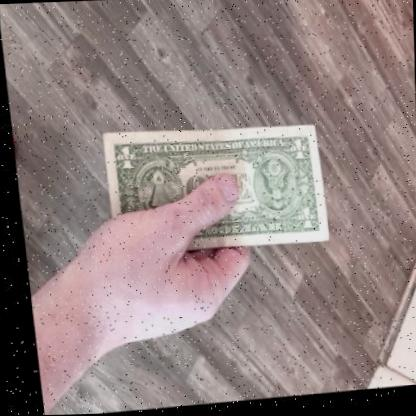dollar_back: (98, 119, 324, 265)
